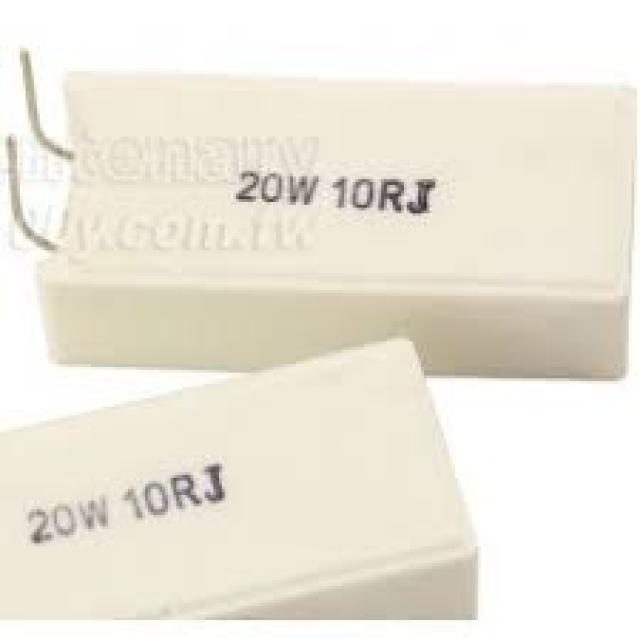Resistor: (27, 68, 633, 374), (1, 341, 471, 615)
